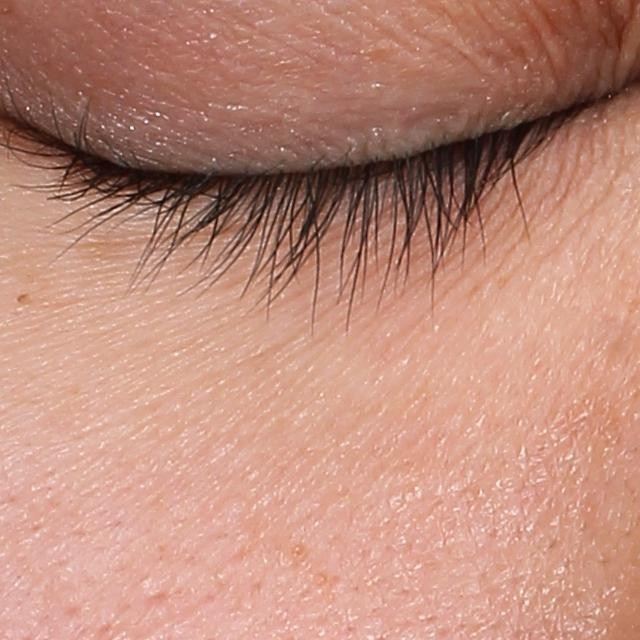nevus: (13, 290, 35, 305)
